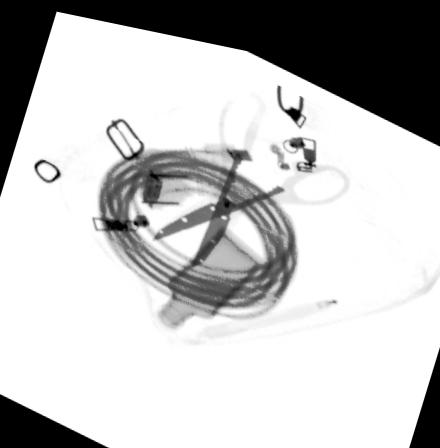Scissors: (151, 76, 353, 260)
